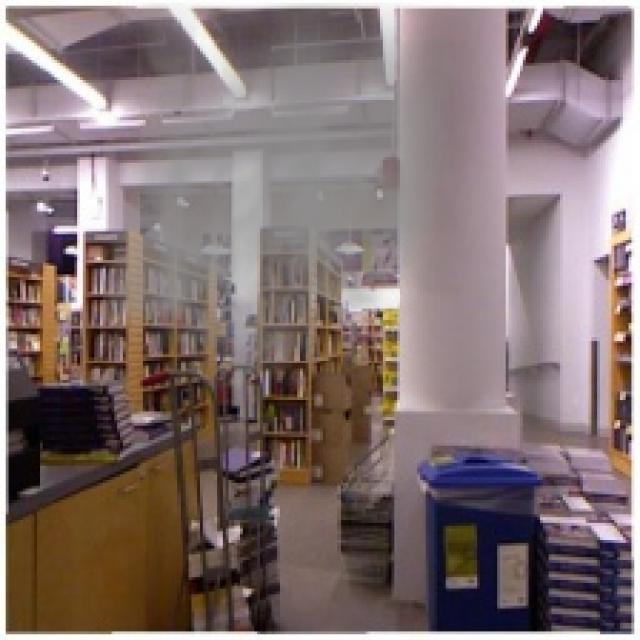Smoke: (102, 3, 458, 403)
